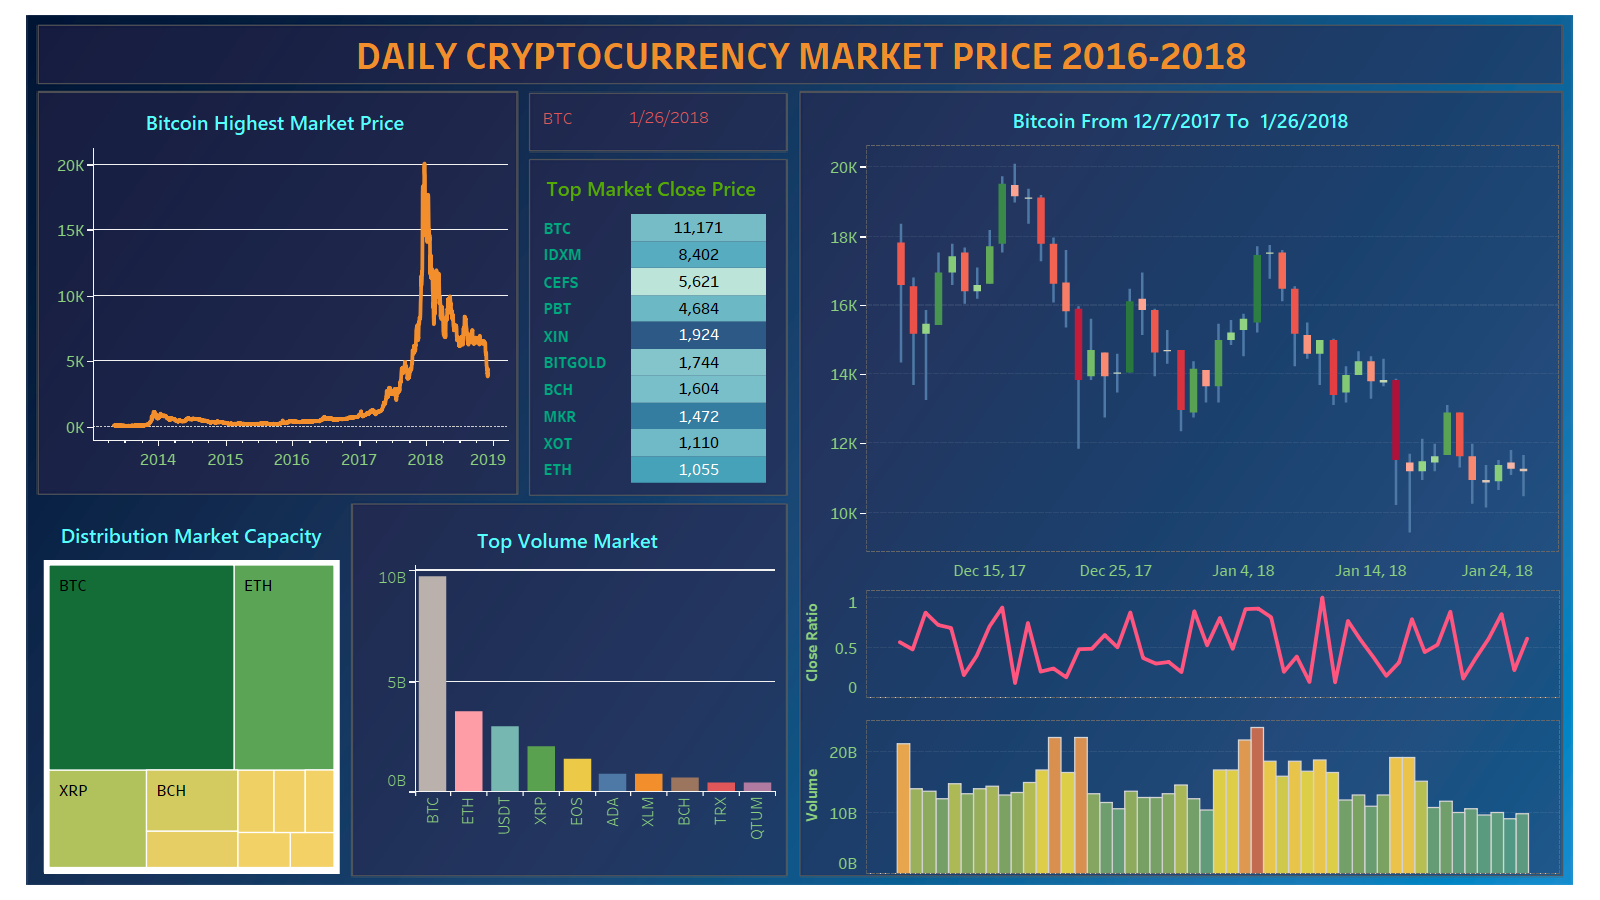

This screenshot's page, from the dashboard's own definition file:
{"tool":"tableau","page":{"name":"main dash board","canvas":[1280,720],"ordinal":0},"visuals":[{"type":"image","param":"C:/Source/data_visualization/pj3/final/bg.png","box":[8,8,1264,704]},{"type":"text","box":[34,21,1214,44]},{"type":"worksheet","title":"highest price","mark":"Automatic","rows":["high"],"cols":["date"],"box":[30,77,380,311]},{"type":"worksheet","title":"CandleSticks Chart","mark":"GanttBar","rows":["open","low"],"cols":["date"],"box":[641,79,607,387]},{"type":"parameter","param":"[Parameters].[Parameter 1]","box":[497,80,132,34]},{"type":"parameter","param":"[Parameters].[Parameter 2]","box":[432,85,63,24]},{"type":"worksheet","title":"daily price","mark":"Square","rows":["symbol"],"box":[425,130,203,260]},{"type":"worksheet","title":"distribution 1","mark":"Automatic","box":[31,407,244,295]},{"type":"worksheet","title":"top 10 volume","mark":"Automatic","rows":["volume"],"cols":["symbol"],"box":[284,411,340,286]},{"type":"worksheet","title":"close ratio","mark":"Line","rows":["close_ratio"],"cols":["date"],"box":[641,472,608,87]},{"type":"worksheet","title":"volume","mark":"Bar","rows":["volume"],"cols":["date"],"box":[641,576,608,124]}]}

Visuals, with their boxes in screenshot pixels (x1, y1, x2, y2), scaled from the page's 1280x720 canvas onto the 1600x900 screenshot:
image: <box>10,10,1590,890</box>
text: <box>42,26,1560,81</box>
"highest price" worksheet: <box>38,96,512,485</box>
"CandleSticks Chart" worksheet (GanttBar marks): <box>801,99,1560,582</box>
parameter: <box>621,100,786,142</box>
parameter: <box>540,106,619,136</box>
"daily price" worksheet (Square marks): <box>531,162,785,488</box>
"distribution 1" worksheet: <box>39,509,344,878</box>
"top 10 volume" worksheet: <box>355,514,780,871</box>
"close ratio" worksheet (Line marks): <box>801,590,1561,699</box>
"volume" worksheet (Bar marks): <box>801,720,1561,875</box>
